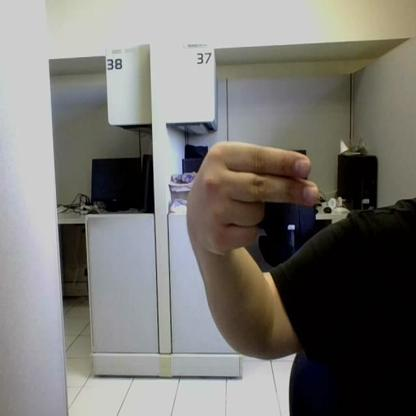H: (198, 141, 318, 254)
